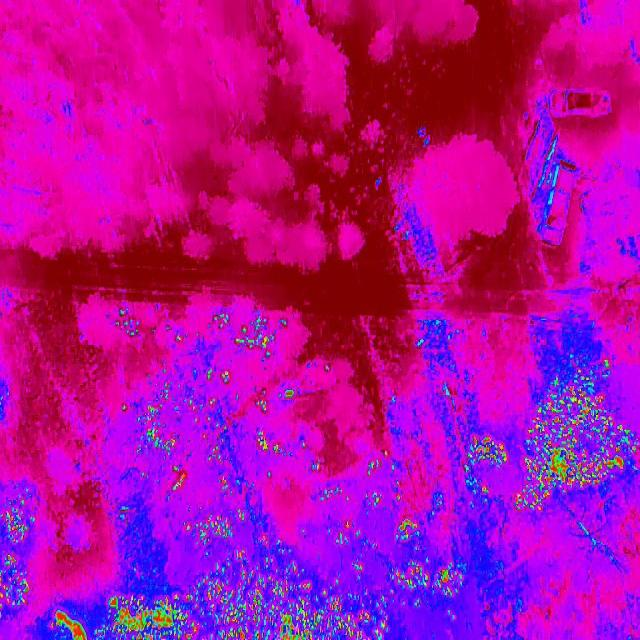fire: (515, 364, 640, 517), (47, 590, 391, 640), (136, 394, 260, 500), (192, 515, 312, 591), (0, 481, 39, 620), (207, 313, 288, 359), (387, 560, 471, 604), (458, 431, 509, 502), (256, 389, 296, 459), (332, 517, 372, 574), (392, 515, 423, 544)
